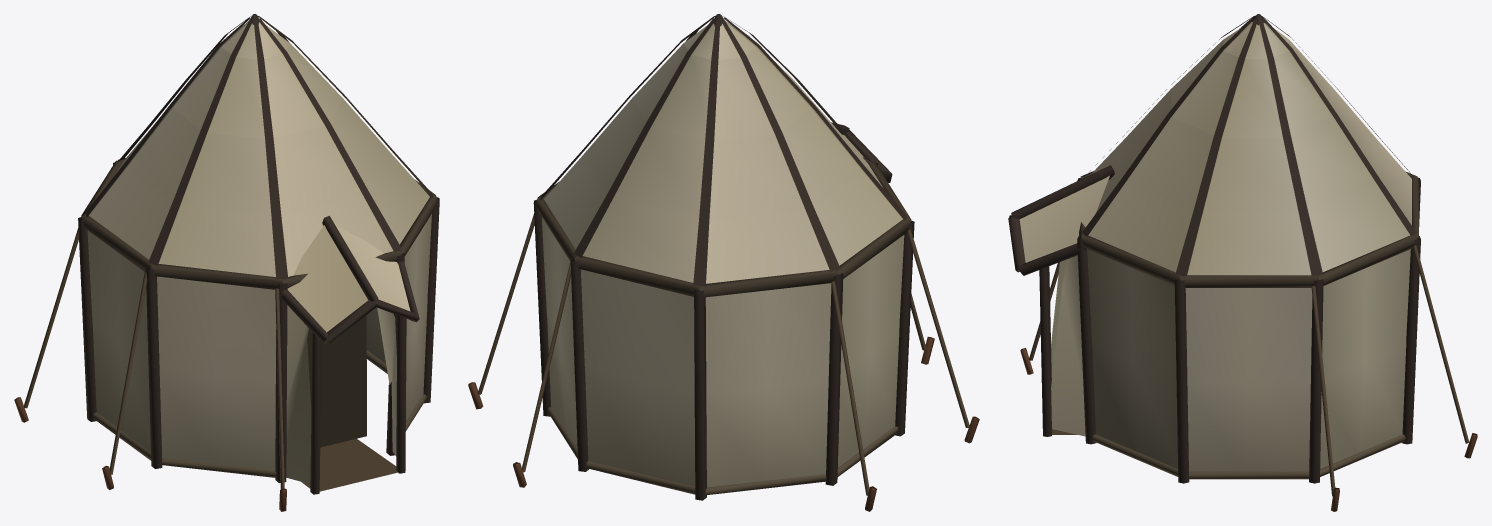
File: cadir.glb
The picture shows the model from 3 angles, left to right: view 1: azimuth 30°, elevation 25°; view 2: azimuth 150°, elevation 25°; view 3: azimuth 270°, elevation 25°; orthographic projection. The views are drawn at different scales.
Visible parts, largest first — view 1: CadirMesh; view 2: CadirMesh; view 3: CadirMesh.
Part boxes in pixels (bbox=[...]): CadirMesh: bbox=[14, 14, 439, 511]; CadirMesh: bbox=[468, 14, 979, 511]; CadirMesh: bbox=[1008, 14, 1477, 511].
Size of the model in its own units: 2.68 by 2.53 by 2.69.
